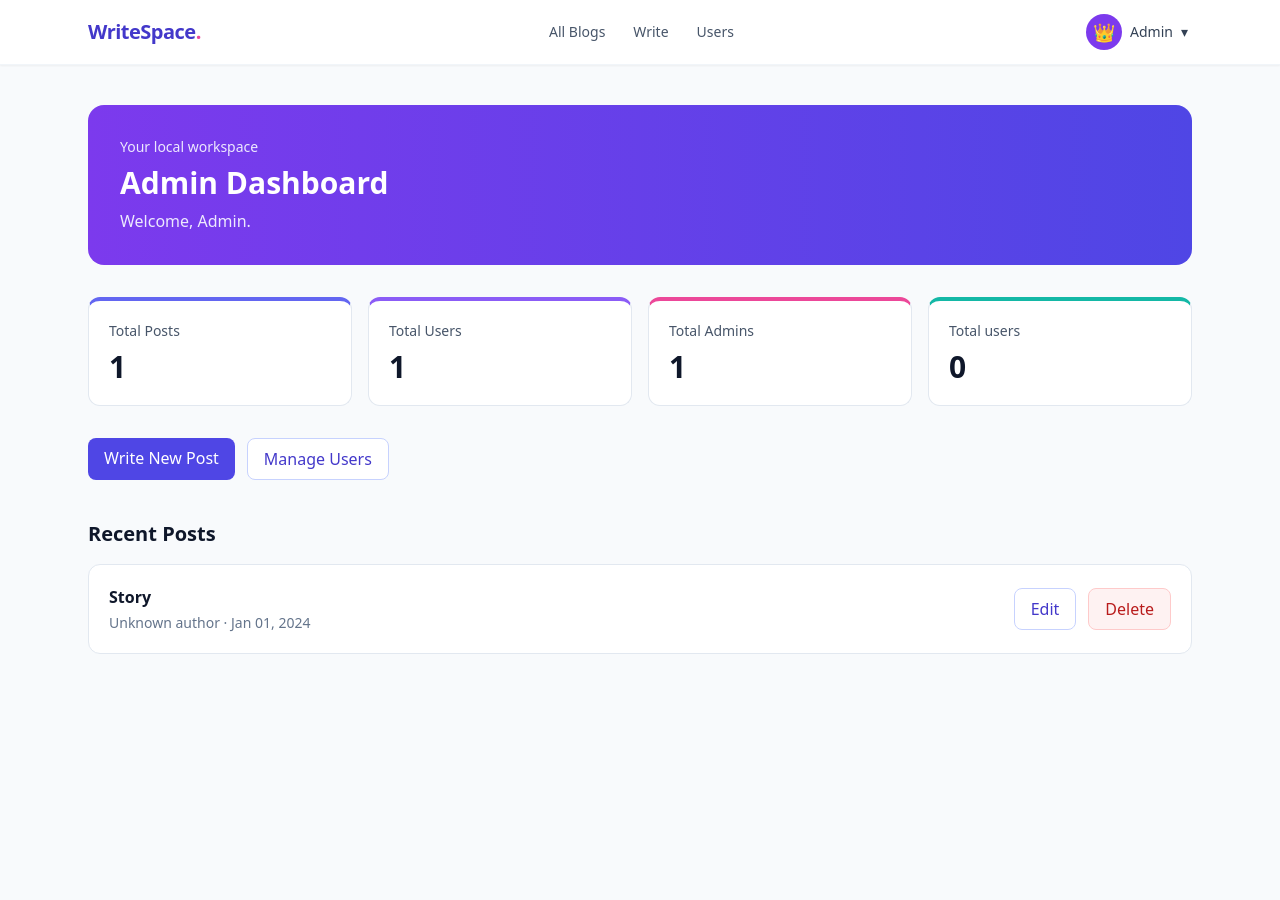
Scenario: administration › confirms post deletion, updates counts and reports write failure
Click the button with aria-label "Delete Story". click: x=1130, y=609
box: [1088,588,1171,630]
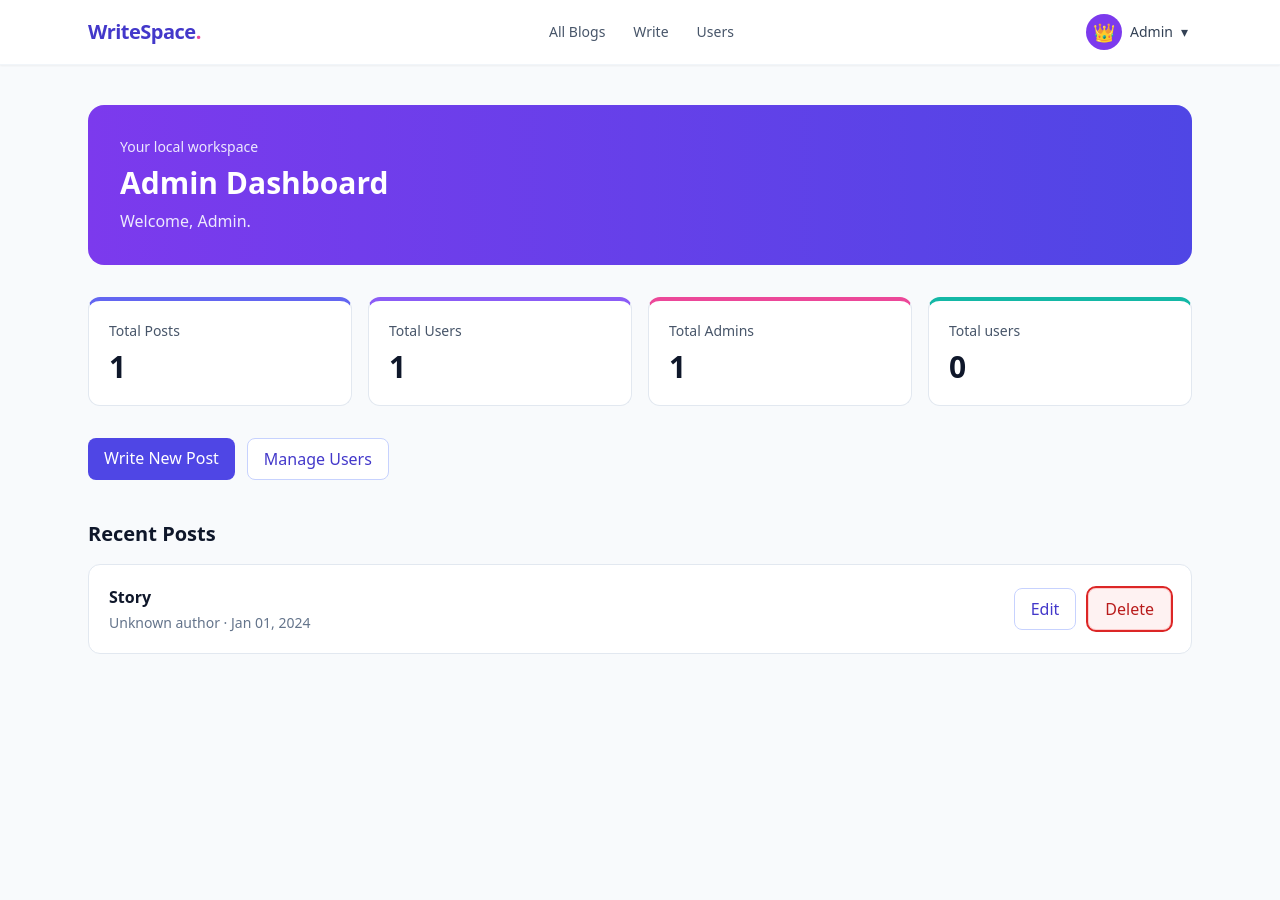
Click the button with aria-label "Delete Story". click: x=1130, y=609
box: [1088,588,1171,630]
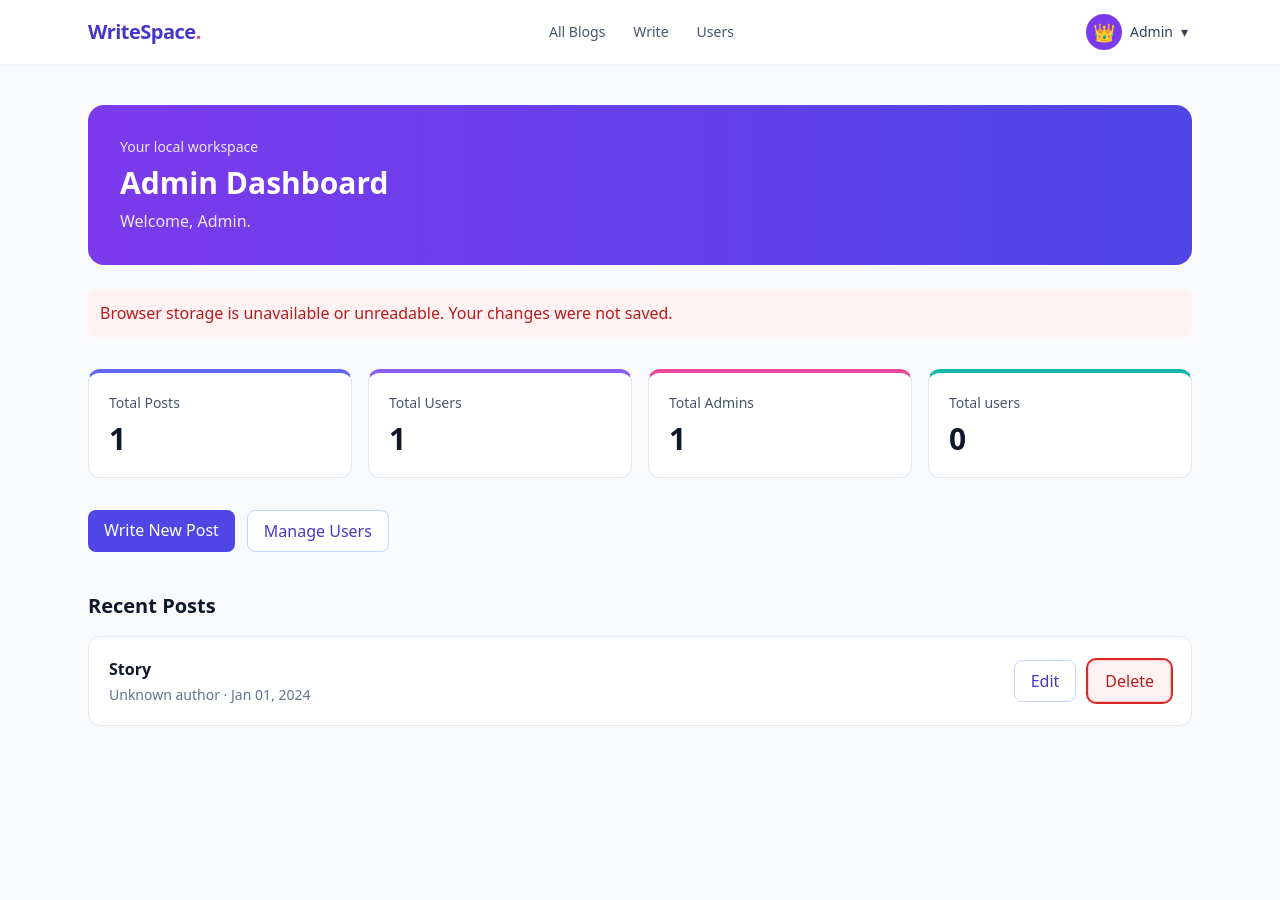
Expected: the message shows "storage", [100,302,673,324]
Click the button with aria-label "Delete Story". click: x=1130, y=681
box: [1088,660,1171,702]
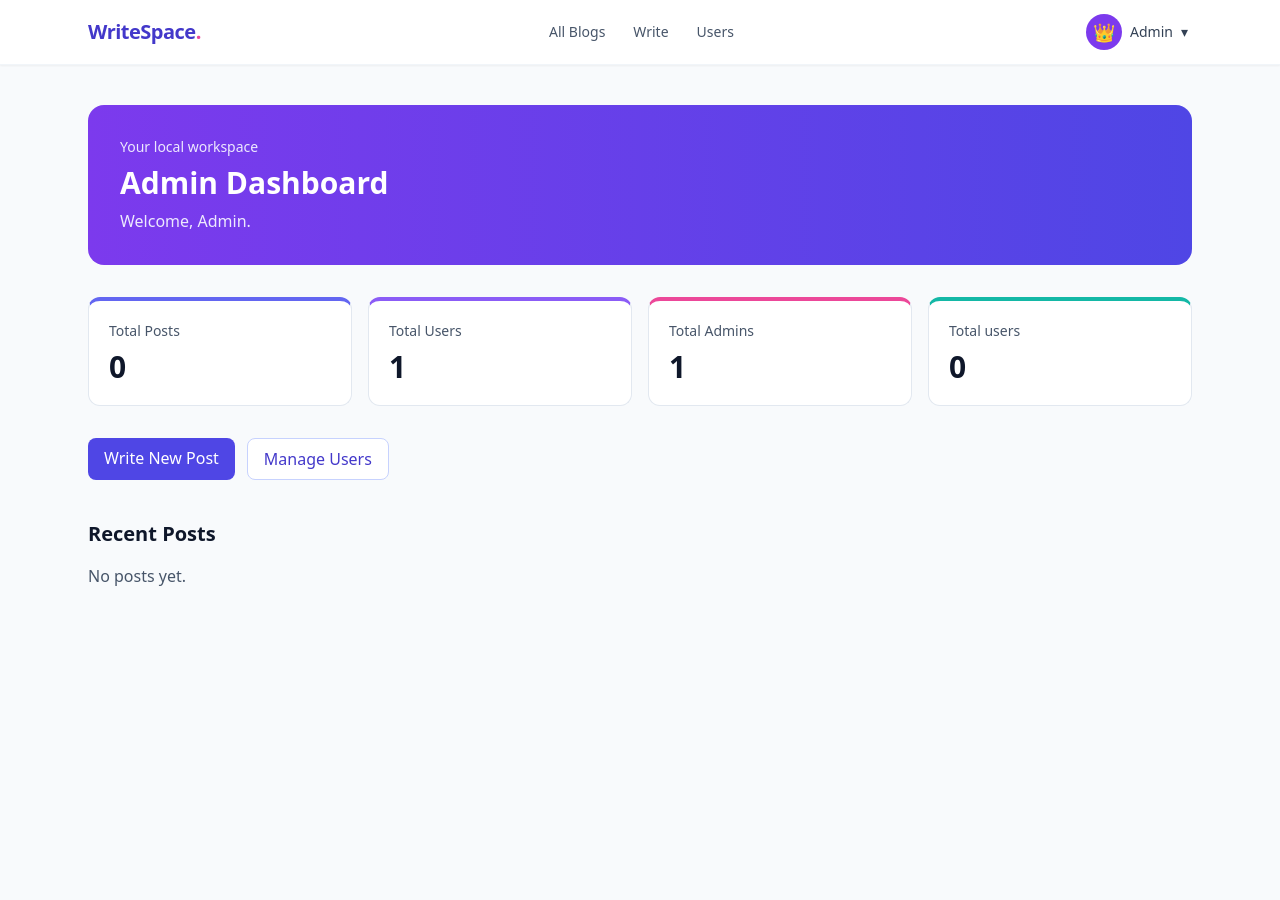
Expected: the text "No posts yet." is shown, [88,565,186,587]
